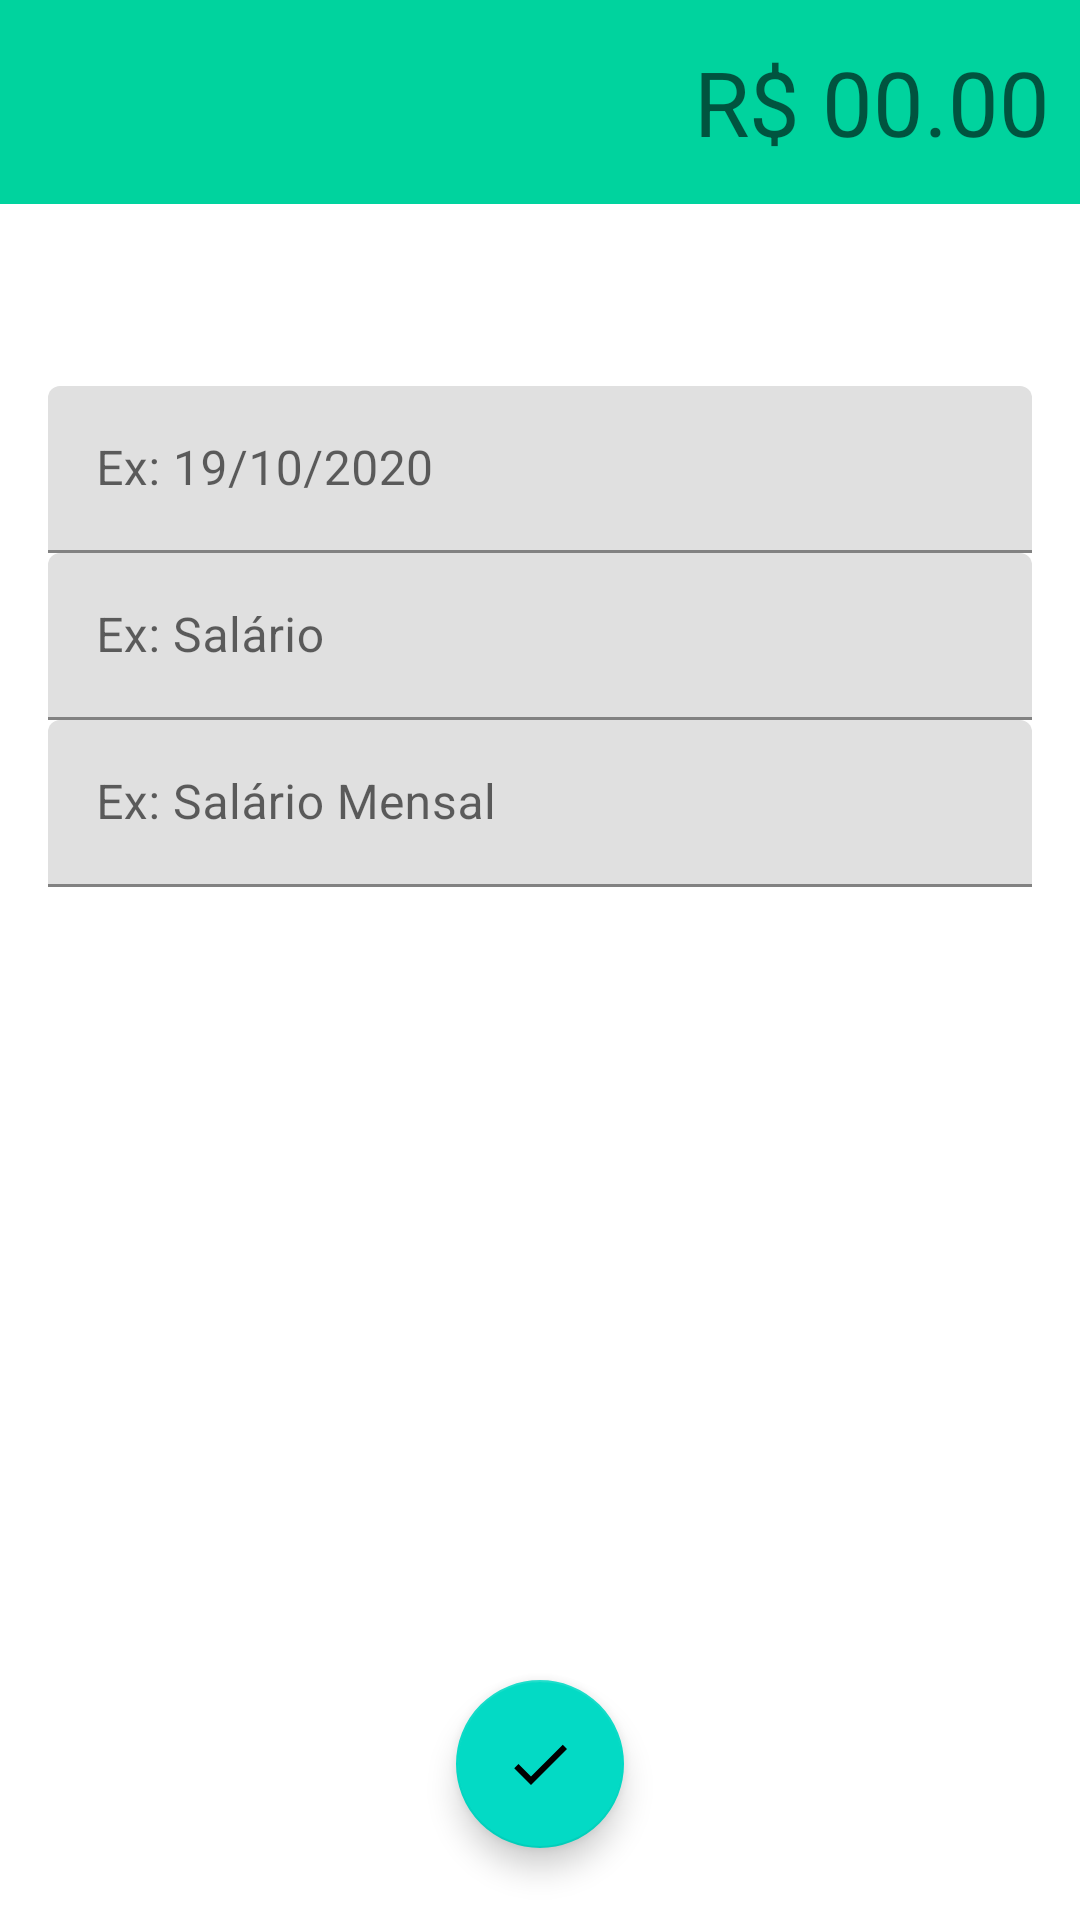

Icon click points for this 1080×1920 phone screenshot, format (x=x, y=y):
confirmar: (x=540, y=1764)
